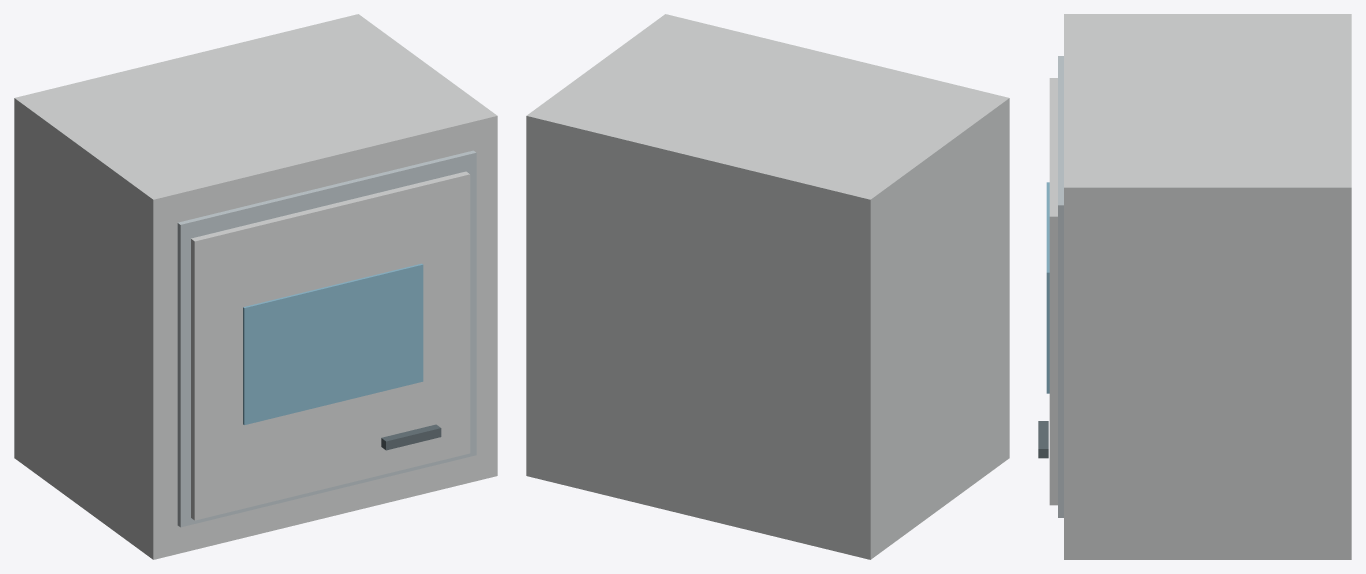
The model's file is curing_oven.glb.
The picture shows the model from 3 angles, left to right: view 1: azimuth 30°, elevation 25°; view 2: azimuth 150°, elevation 25°; view 3: azimuth 270°, elevation 25°; orthographic projection. The views are drawn at different scales.
Size of the model in its own units: 1 by 1 by 0.7625.
